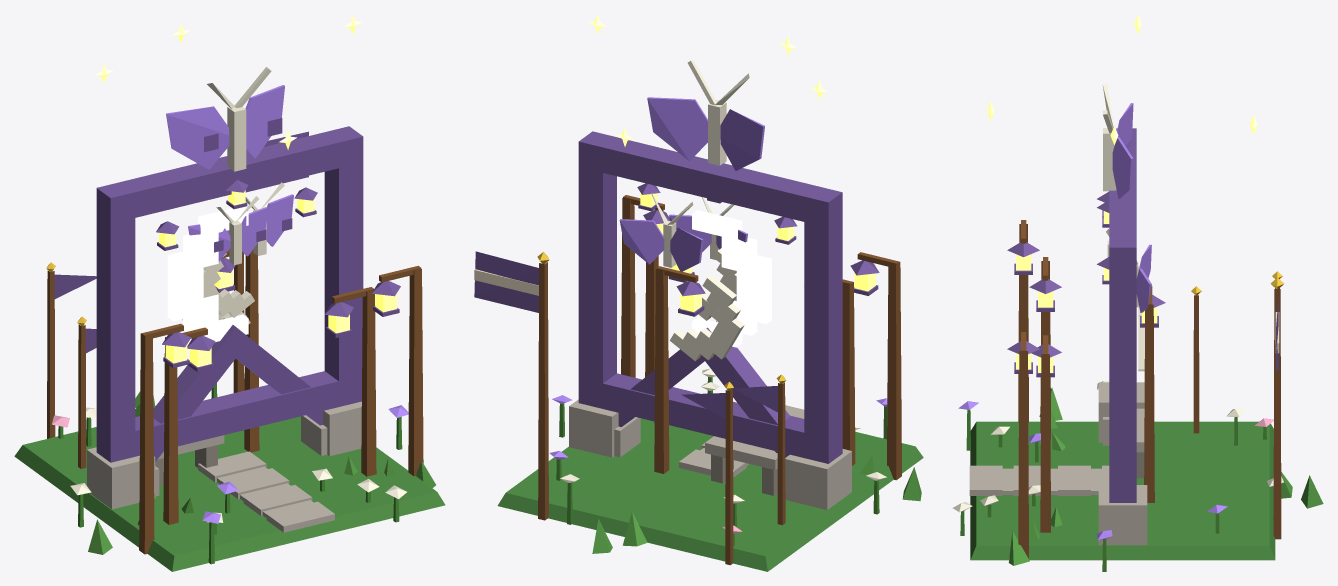
The model's file is moth-moon-garden-blocky.glb.
3 renders of one model, left to right at view 1: azimuth 30°, elevation 25°; view 2: azimuth 150°, elevation 25°; view 3: azimuth 270°, elevation 25°, orthographic. The views are drawn at different scales.
Parts seen in each view (by area): view 1: lv3, lv2, lv1; view 2: lv3, lv2, lv1; view 3: lv3, lv2, lv1.
Boxes of the visible parts, x1,y1,x2,y2 form: lv3: (14,14,445,571); lv2: (77,196,396,534); lv1: (155,182,357,513); lv3: (474,14,923,571); lv2: (549,197,873,546); lv1: (619,193,777,495); lv3: (953,14,1323,571); lv2: (980,229,1292,540); lv1: (1028,244,1165,527).
Bounding box in the file's own units: 1.74 × 2.15 × 1.68.
